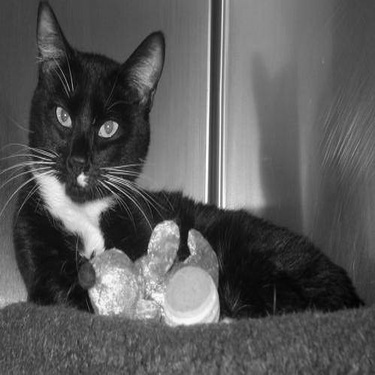cat: (1, 2, 351, 310)
